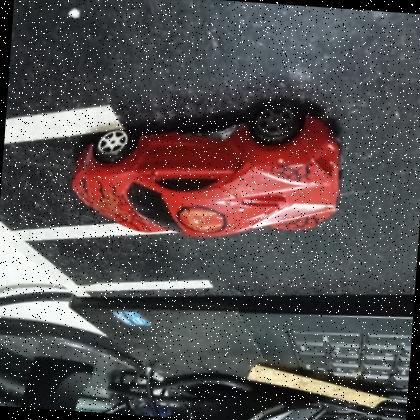Car: (72, 102, 342, 237)
